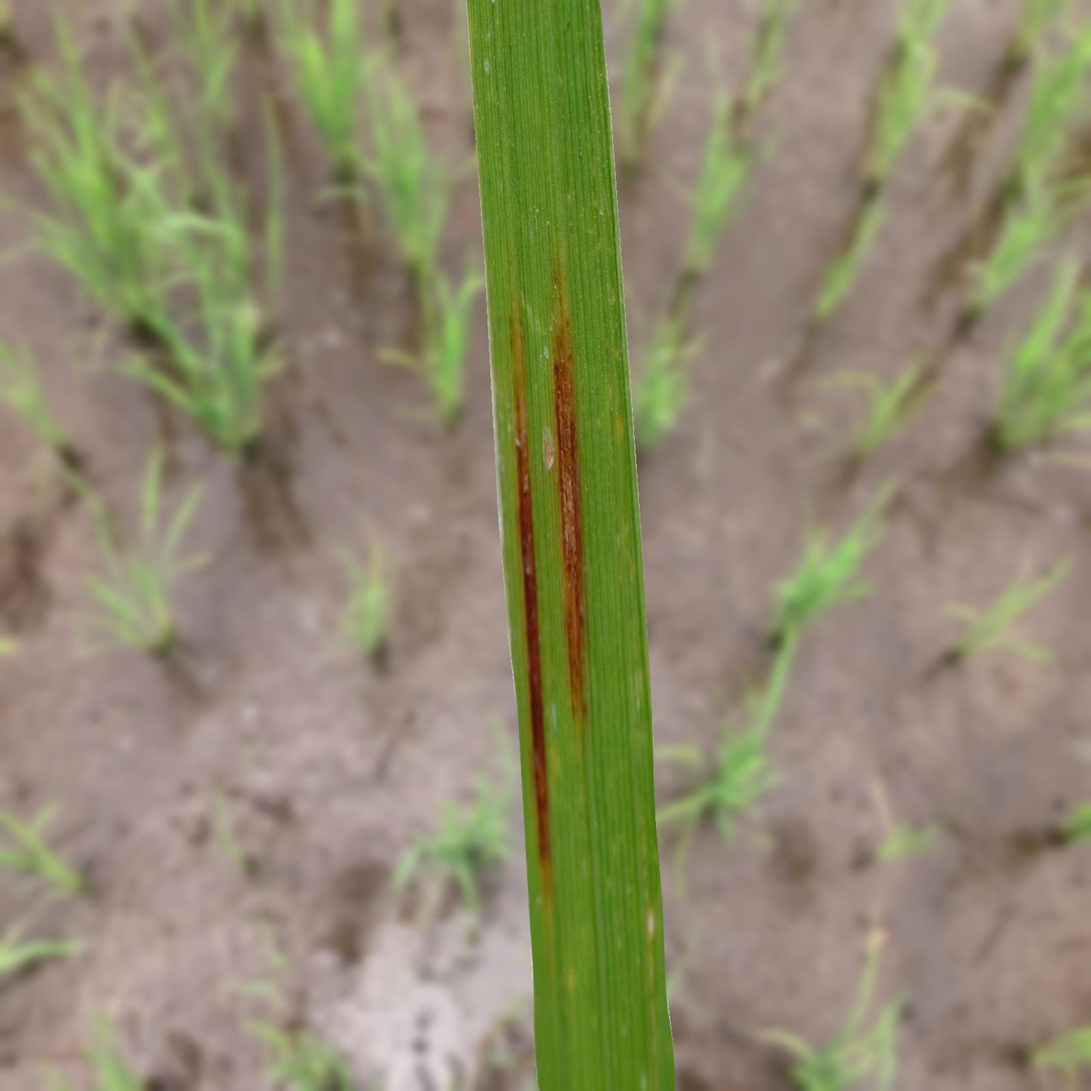LEAF: (466, 0, 675, 1090)
NBS: (516, 386, 550, 876), (553, 332, 586, 721)
